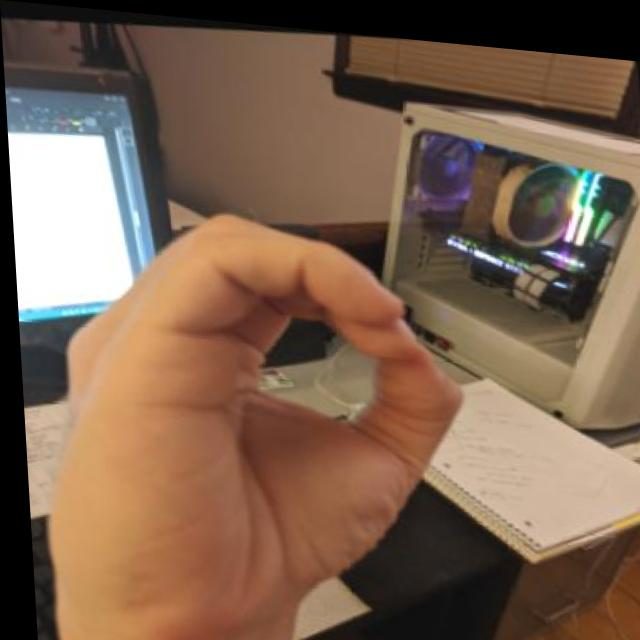O: (10, 173, 490, 640)
